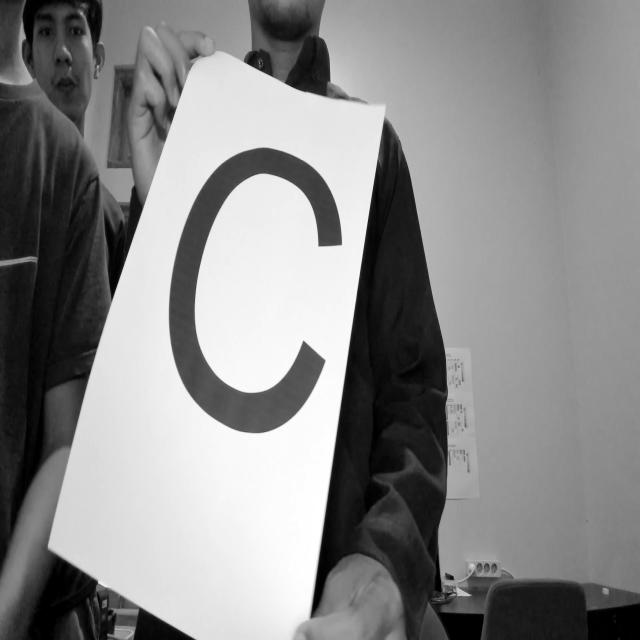c: (163, 124, 351, 452)
